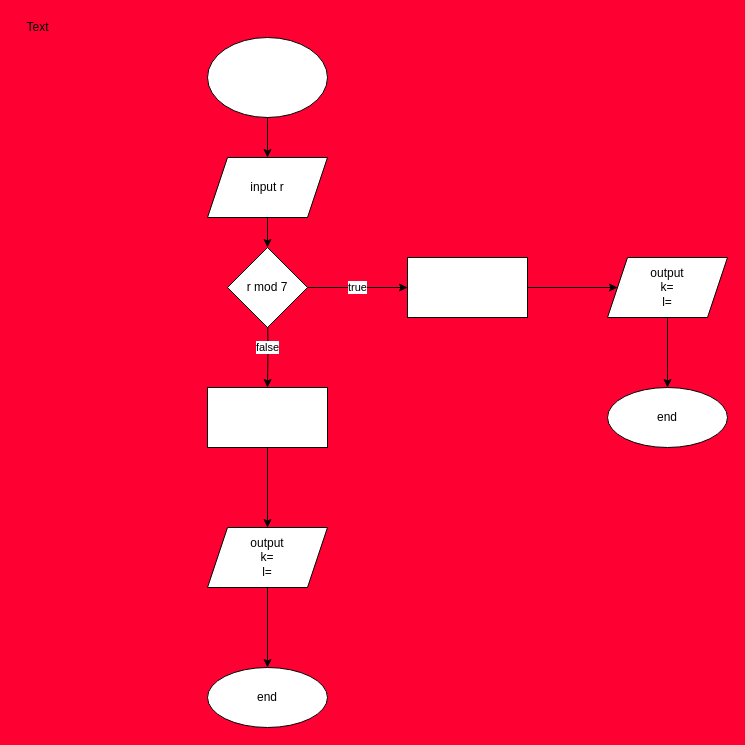
Image size: 745x745. Some labels were removed from this diagram. Each missing label, with the centre of its shape:
"k=2.22/7.r l=22/7.r.r" goes at [267,417].
"k=2.3,14.r l=3.14.r.r" goes at [467,287].
"start" goes at [267,77].
